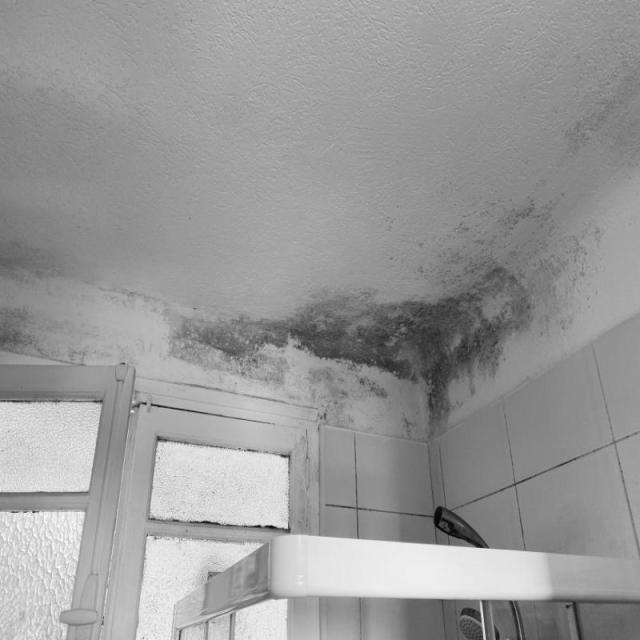stain marks: (136, 199, 594, 442)
